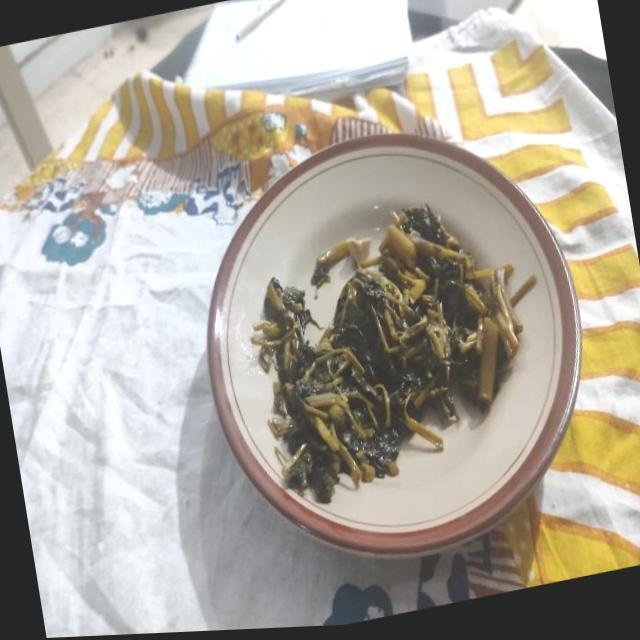tumis_kangkung: (258, 204, 522, 503)
